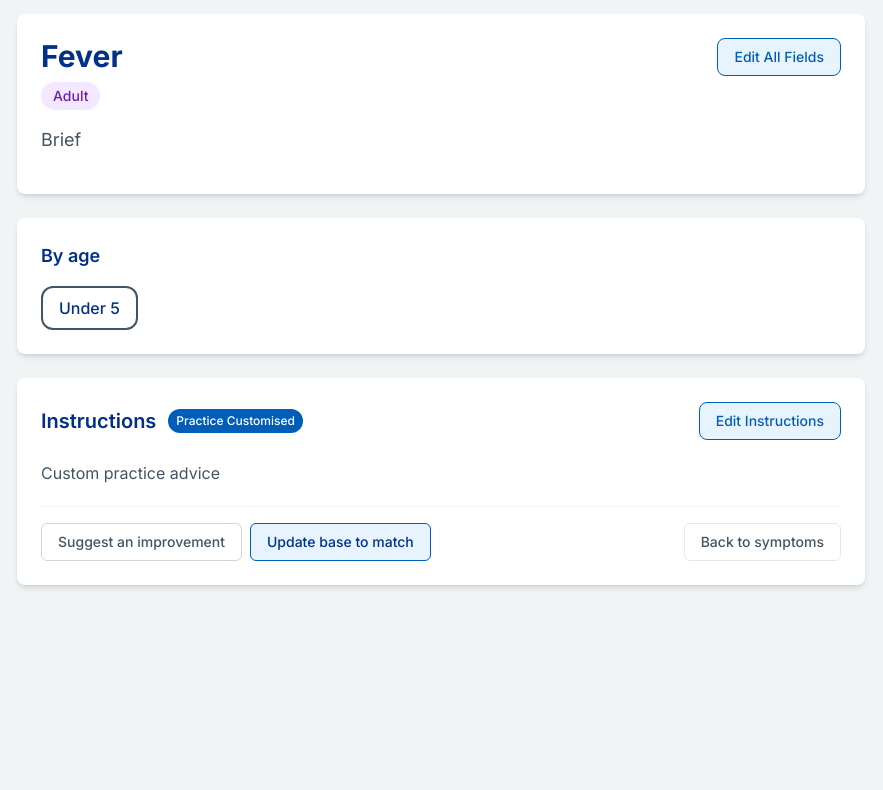
Scenario: InstructionView variants › shows both variant panels to a superuser on an override-source symptom
The image size is (883, 790).
Click the button "Edit All Fields" at {"x": 779, "y": 57}, box [717,38,841,76]
(page scrolled)
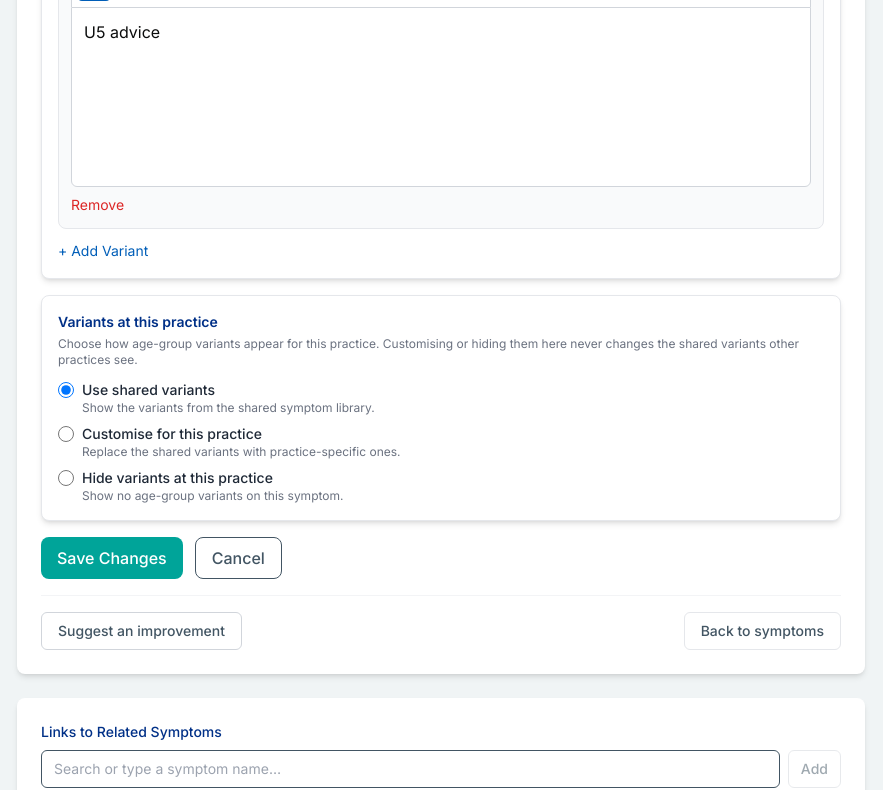
Expected: the heading "Variants at this practice" is shown, [58,313,218,330]
Expected: the radio button labelled "Use shared variants" is checked, [58,382,74,398]
